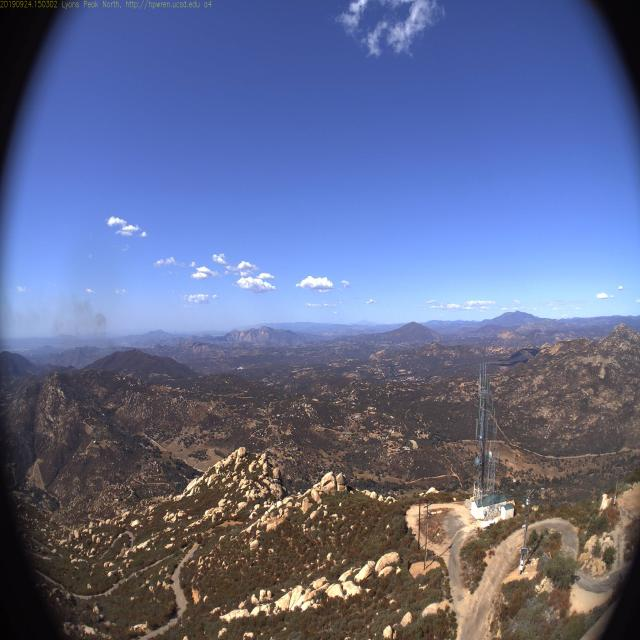smoke: (85, 316, 133, 372)
